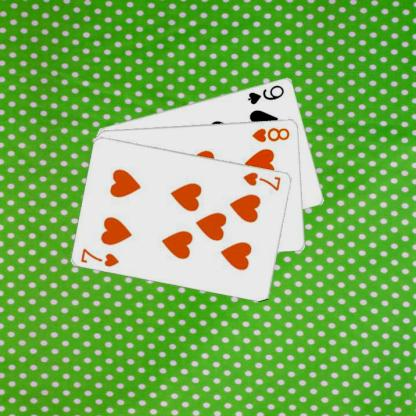7H: (240, 169, 283, 192), (78, 245, 121, 268)
8H: (250, 125, 291, 144)
9S: (245, 82, 286, 105)
